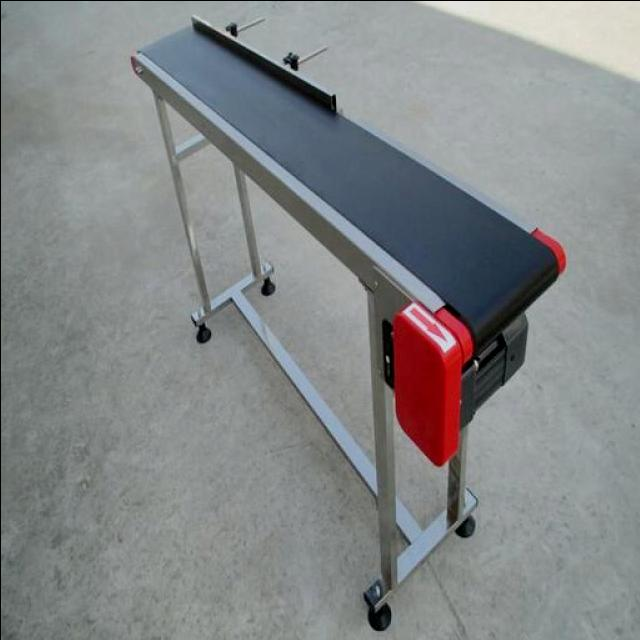conveyor: (136, 24, 567, 342)
